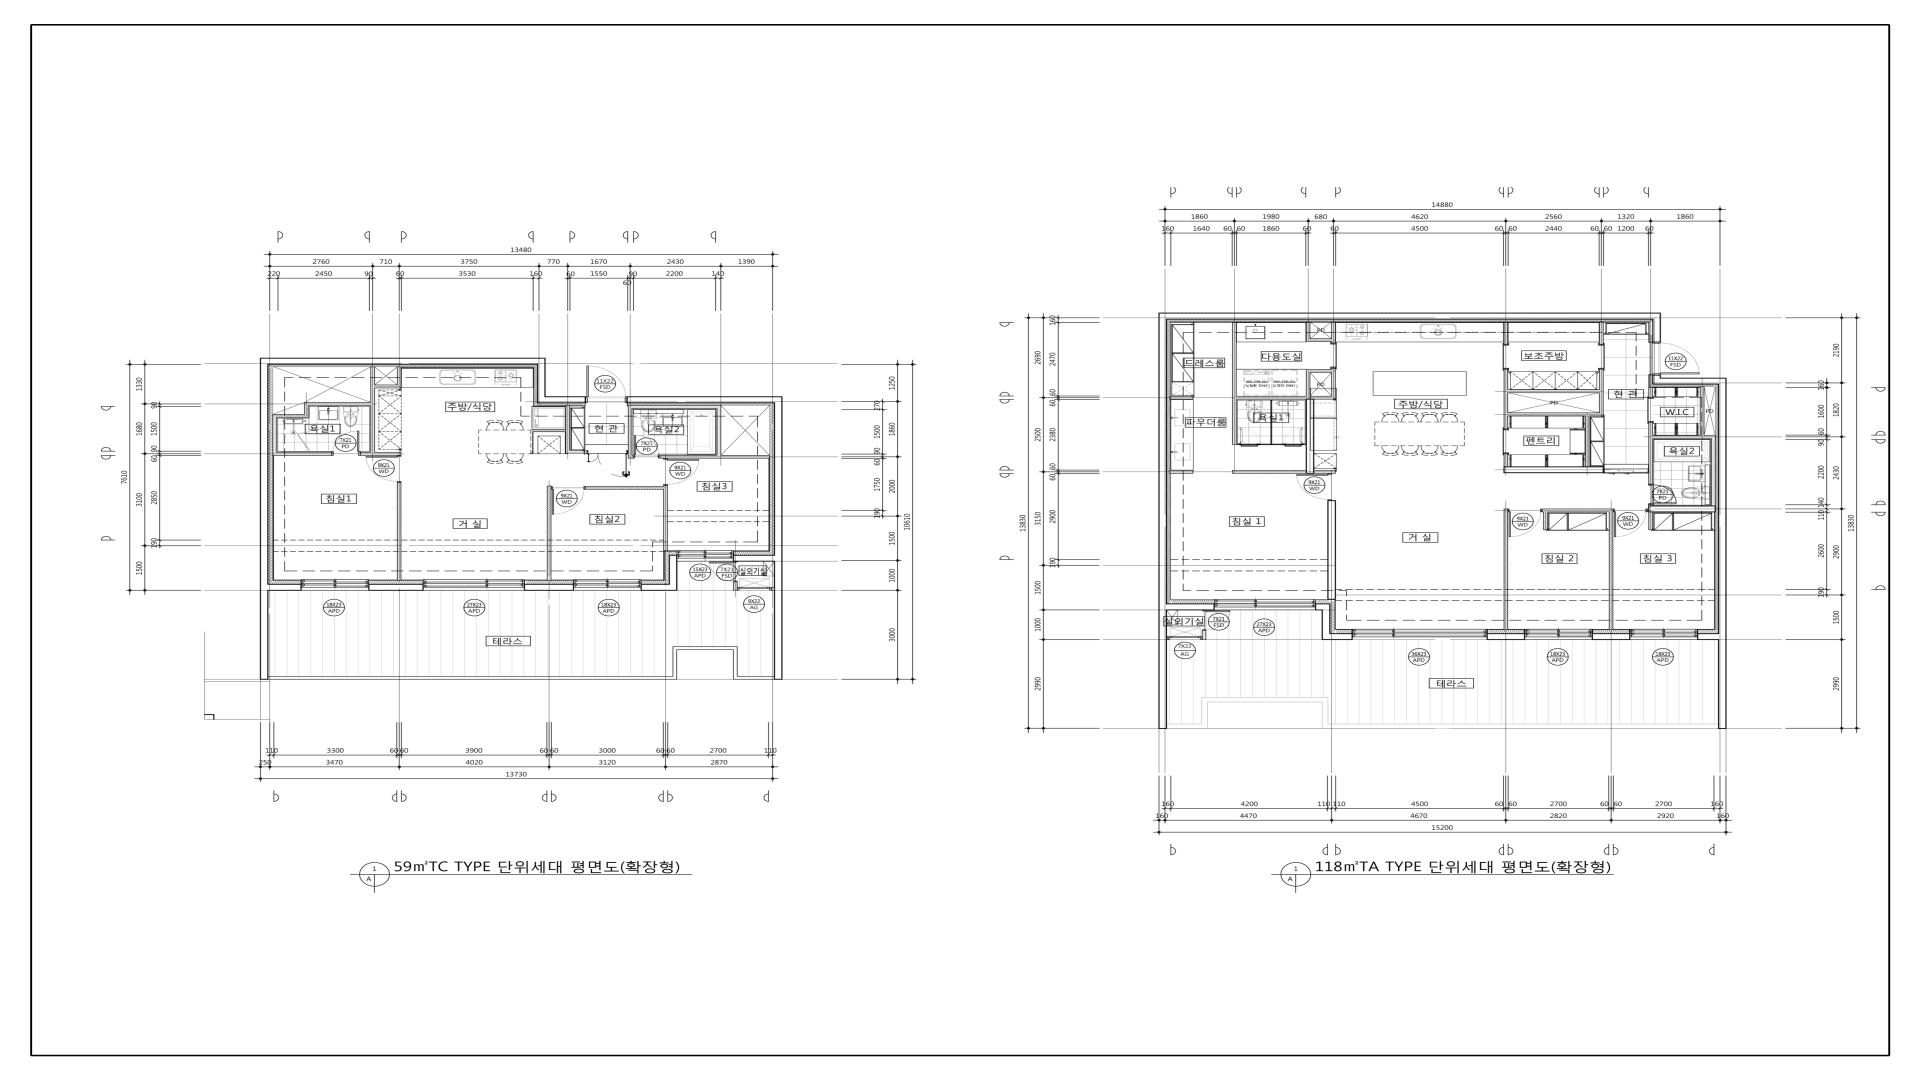door: (585, 365, 628, 404), (1659, 343, 1700, 375), (365, 455, 401, 483), (551, 487, 585, 514), (663, 459, 699, 485), (1613, 510, 1646, 538), (1296, 475, 1332, 500), (1509, 510, 1542, 537), (332, 430, 360, 456), (633, 435, 659, 459), (709, 562, 737, 582), (1651, 485, 1677, 505), (1205, 611, 1230, 630), (1240, 427, 1259, 447), (1283, 427, 1302, 447), (297, 431, 310, 451), (1604, 468, 1648, 473), (1647, 398, 1654, 423), (1502, 429, 1509, 454), (1598, 344, 1605, 369), (1502, 344, 1509, 369), (1331, 344, 1336, 368)
wall: (1158, 313, 1662, 640), (1652, 375, 1727, 640), (269, 357, 546, 365), (260, 357, 269, 591), (774, 402, 783, 591), (1315, 604, 1353, 641), (626, 396, 782, 404), (1327, 500, 1336, 600), (1305, 400, 1315, 473), (1503, 467, 1604, 473), (1232, 322, 1237, 444), (1609, 509, 1614, 629), (1503, 509, 1509, 629), (1648, 505, 1716, 513), (659, 455, 770, 459), (397, 483, 401, 580), (1507, 413, 1604, 417), (547, 485, 551, 580), (1507, 389, 1600, 393), (369, 584, 423, 591), (537, 365, 546, 404), (628, 405, 716, 409), (371, 367, 375, 452), (669, 555, 678, 591), (525, 584, 574, 591), (1232, 469, 1305, 473), (1237, 396, 1311, 400), (733, 555, 774, 562), (1712, 438, 1716, 505), (628, 409, 633, 459), (305, 402, 371, 406), (663, 485, 667, 551), (546, 397, 585, 404), (1700, 386, 1705, 435), (564, 405, 570, 454), (1486, 633, 1524, 640), (1652, 435, 1716, 439), (1648, 423, 1652, 485), (1593, 633, 1630, 640), (1503, 369, 1507, 429), (269, 584, 301, 591), (585, 487, 663, 489), (1585, 417, 1589, 467), (717, 405, 721, 455), (641, 584, 669, 591), (1542, 509, 1609, 512), (1600, 369, 1604, 413), (1331, 368, 1336, 397), (273, 418, 277, 455), (277, 452, 332, 455), (1305, 369, 1311, 396), (273, 414, 305, 418), (1503, 322, 1509, 344), (1270, 400, 1273, 443), (1331, 322, 1336, 343), (360, 452, 401, 455), (1311, 396, 1336, 400), (1543, 512, 1548, 530), (1170, 469, 1193, 473), (1170, 396, 1193, 400), (1600, 323, 1604, 344), (1315, 469, 1336, 473), (1311, 369, 1332, 373), (375, 385, 402, 388), (397, 367, 401, 385), (1503, 454, 1509, 467), (1648, 513, 1652, 530), (1305, 322, 1309, 339), (1305, 339, 1331, 342), (1259, 443, 1282, 446), (570, 450, 584, 454), (1201, 630, 1207, 640), (305, 406, 309, 418), (1648, 388, 1652, 398), (733, 582, 737, 591), (309, 418, 310, 431), (771, 587, 774, 591)
window: (1352, 629, 1486, 640), (423, 579, 525, 591), (1215, 599, 1315, 611), (301, 579, 369, 591), (574, 579, 641, 591), (1524, 629, 1593, 640), (1630, 629, 1697, 640), (676, 550, 733, 562), (737, 587, 771, 591), (1167, 637, 1201, 640)
